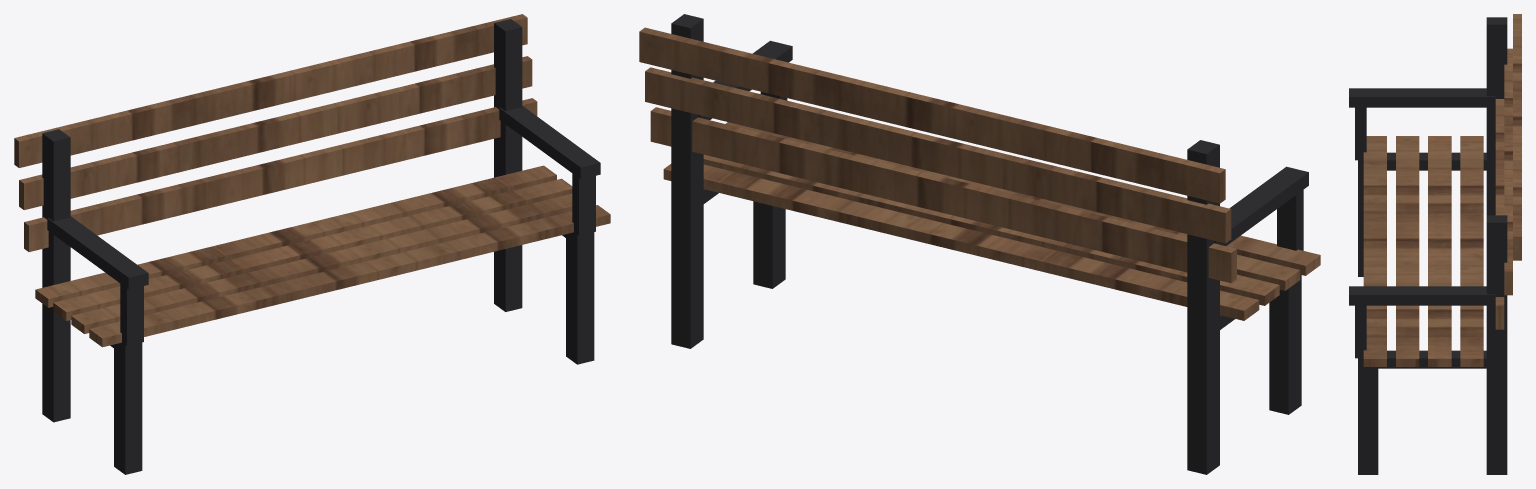
File: town_bench.gltf
3 views of the same model, side by side, from view 1: azimuth 30°, elevation 25°; view 2: azimuth 150°, elevation 25°; view 3: azimuth 270°, elevation 25° (orthographic). The views are drawn at different scales.
Parts seen in each view (by area): view 1: TownBench_Slats, TownBench_Ends; view 2: TownBench_Slats, TownBench_Ends; view 3: TownBench_Slats, TownBench_Ends.
Boxes of the visible parts, x1=… form: TownBench_Slats: x1=14, y1=14, x2=610, y2=347; TownBench_Ends: x1=42, y1=19, x2=600, y2=474; TownBench_Slats: x1=639, y1=27, x2=1320, y2=320; TownBench_Ends: x1=671, y1=14, x2=1308, y2=474; TownBench_Slats: x1=1363, y1=14, x2=1521, y2=366; TownBench_Ends: x1=1349, y1=17, x2=1507, y2=474.
Size of what is drawn, in the model's own units: 1.8 by 0.95 by 0.5899.
1 material, 1 textured.
